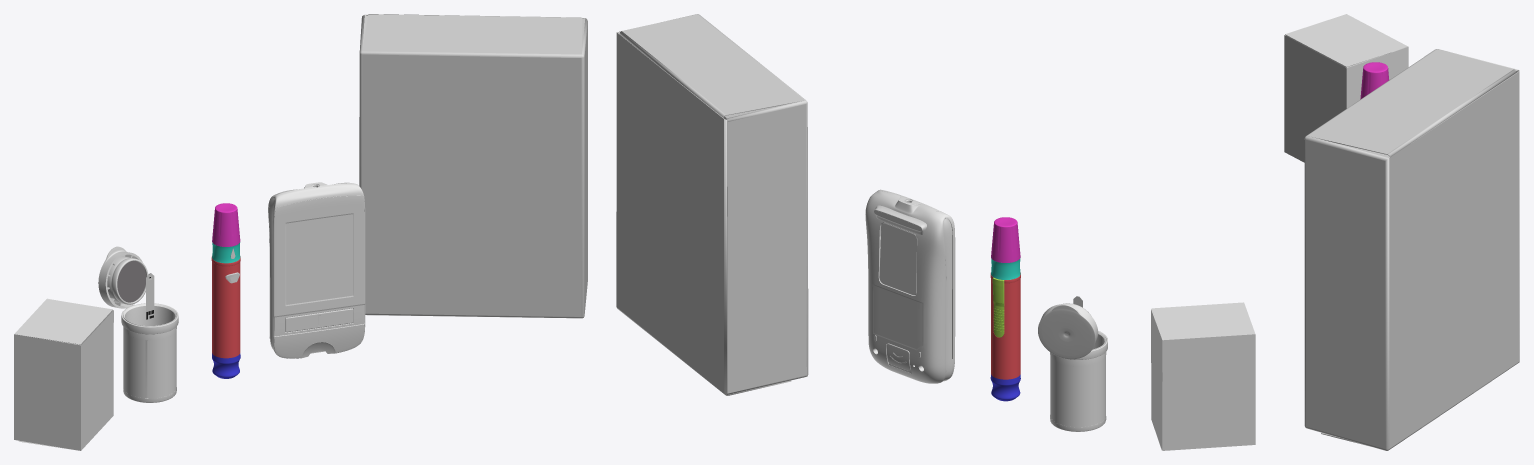
File: glucometer.fbx
3 views of the same model, side by side, from view 1: azimuth 30°, elevation 25°; view 2: azimuth 150°, elevation 25°; view 3: azimuth 270°, elevation 25° (orthographic). The views are drawn at different scales.
Parts seen in each view (by area): view 1: Plane, package, top body, glass, box.005, ejection system, box.001, bottom body, box.003, ejection system 2, main button, box.002 (+1 smaller); view 2: Plane, package, back.001, box.005, box.001, ejection system, back.006, back.002, ejection system 2, side body, handle, top body (+1 smaller); view 3: Plane, package, ejection system 2.
Part boxes in pixels (<box>): Plane: <box>359,14,587,318</box>; package: <box>14,299,113,450</box>; top body: <box>272,183,365,336</box>; glass: <box>286,214,352,304</box>; box.005: <box>123,330,176,398</box>; ejection system: <box>211,256,240,358</box>; box.001: <box>98,246,178,334</box>; bottom body: <box>272,324,365,358</box>; box.003: <box>123,303,176,397</box>; ejection system 2: <box>212,203,240,246</box>; main button: <box>285,308,353,332</box>; box.002: <box>117,261,146,302</box>; Plane: <box>616,14,808,395</box>; package: <box>1151,302,1255,450</box>; back.001: <box>865,190,946,383</box>; box.005: <box>1050,356,1105,427</box>; box.001: <box>1038,303,1107,359</box>; ejection system: <box>990,272,1020,379</box>; back.006: <box>873,285,922,349</box>; back.002: <box>879,222,917,295</box>; ejection system 2: <box>991,217,1020,262</box>; side body: <box>943,218,952,380</box>; handle: <box>992,277,1004,337</box>; top body: <box>878,189,955,358</box>; Plane: <box>1304,49,1519,450</box>; package: <box>1284,14,1408,162</box>; ejection system 2: <box>1360,62,1389,99</box>.
Bounding box in the file's own units: 38.23 × 16.5 × 11.89.
